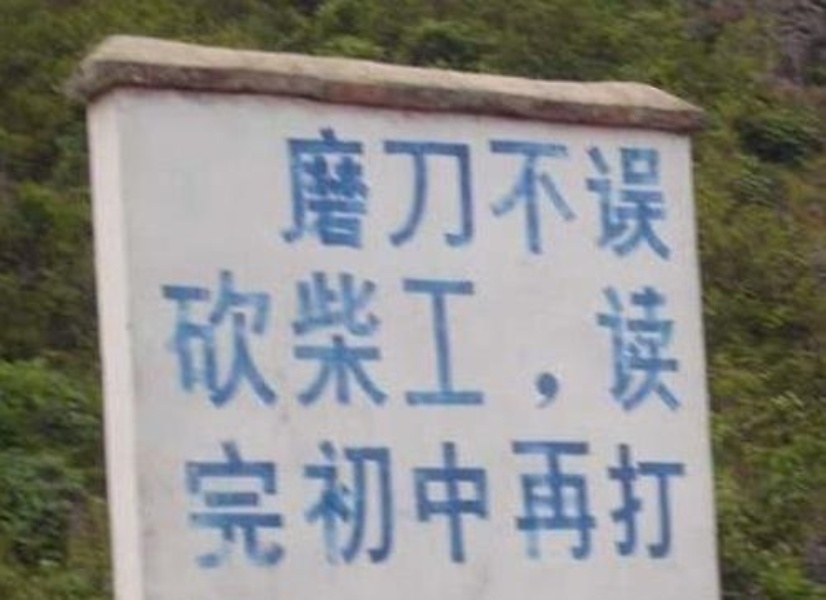text: (177, 265, 192, 414), (193, 265, 208, 414), (209, 265, 224, 414), (225, 265, 240, 414), (241, 265, 256, 414), (257, 265, 272, 414), (273, 265, 288, 414), (289, 265, 304, 414), (305, 265, 320, 414), (321, 265, 336, 414), (337, 265, 352, 414), (353, 265, 368, 414), (369, 265, 384, 414), (385, 265, 400, 414), (401, 265, 416, 414), (417, 265, 432, 414), (433, 265, 448, 414), (449, 265, 464, 414), (465, 265, 480, 414), (481, 265, 496, 414), (497, 265, 512, 414), (513, 265, 528, 414), (529, 265, 544, 414), (545, 265, 560, 414), (561, 265, 576, 414), (577, 265, 592, 414), (593, 265, 608, 414), (609, 265, 624, 414), (625, 265, 640, 414), (641, 265, 656, 414), (657, 265, 672, 414), (673, 265, 688, 414), (673, 435, 689, 569), (162, 265, 176, 414), (289, 124, 304, 262), (305, 124, 320, 262), (321, 124, 336, 262), (337, 124, 352, 262), (353, 124, 368, 262), (369, 124, 384, 262), (385, 124, 400, 262), (401, 124, 416, 262), (417, 124, 432, 262), (433, 124, 448, 262), (449, 124, 464, 262), (465, 124, 480, 262), (481, 124, 496, 262), (497, 124, 512, 262), (513, 124, 528, 262), (529, 124, 544, 262), (545, 124, 560, 262), (561, 124, 576, 262), (577, 124, 592, 262), (593, 124, 608, 262), (609, 124, 624, 262), (625, 124, 640, 262), (641, 124, 656, 262), (657, 124, 672, 262), (193, 435, 208, 569), (209, 435, 224, 569), (225, 435, 240, 569), (241, 435, 256, 569), (257, 435, 272, 569), (273, 435, 288, 569), (289, 435, 304, 569), (305, 435, 320, 569), (321, 435, 336, 569), (337, 435, 352, 569), (353, 435, 368, 569), (369, 435, 384, 569), (385, 435, 400, 569), (401, 435, 416, 569), (417, 435, 432, 569), (433, 435, 448, 569), (449, 435, 464, 569), (465, 435, 480, 569), (481, 435, 496, 569), (497, 435, 512, 569), (513, 435, 528, 569), (529, 435, 544, 569), (545, 435, 560, 569), (561, 435, 576, 569), (577, 435, 592, 569), (593, 435, 608, 569), (609, 435, 624, 569), (625, 435, 640, 569), (641, 435, 656, 569), (657, 435, 672, 569), (179, 435, 192, 569), (283, 124, 288, 262), (673, 124, 678, 262)
